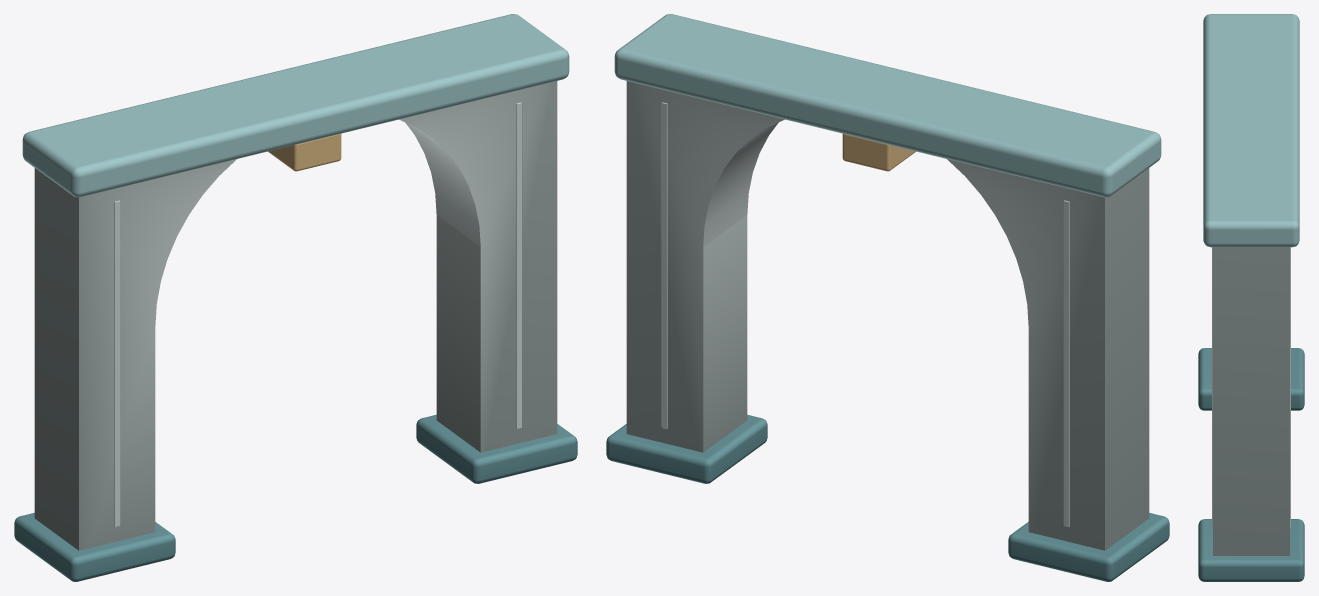
File: arch.glb
The picture shows the model from 3 angles, left to right: view 1: azimuth 30°, elevation 25°; view 2: azimuth 150°, elevation 25°; view 3: azimuth 270°, elevation 25°; orthographic projection. The views are drawn at different scales.
Parts seen in each view (by area): view 1: arch; view 2: arch; view 3: arch.
Part boxes in pixels (<box>): arch: <box>14,14,577,581</box>; arch: <box>606,14,1169,581</box>; arch: <box>1198,14,1304,581</box>.
Bounding box in the file's own units: 10.6 × 8.2 × 2.2.
